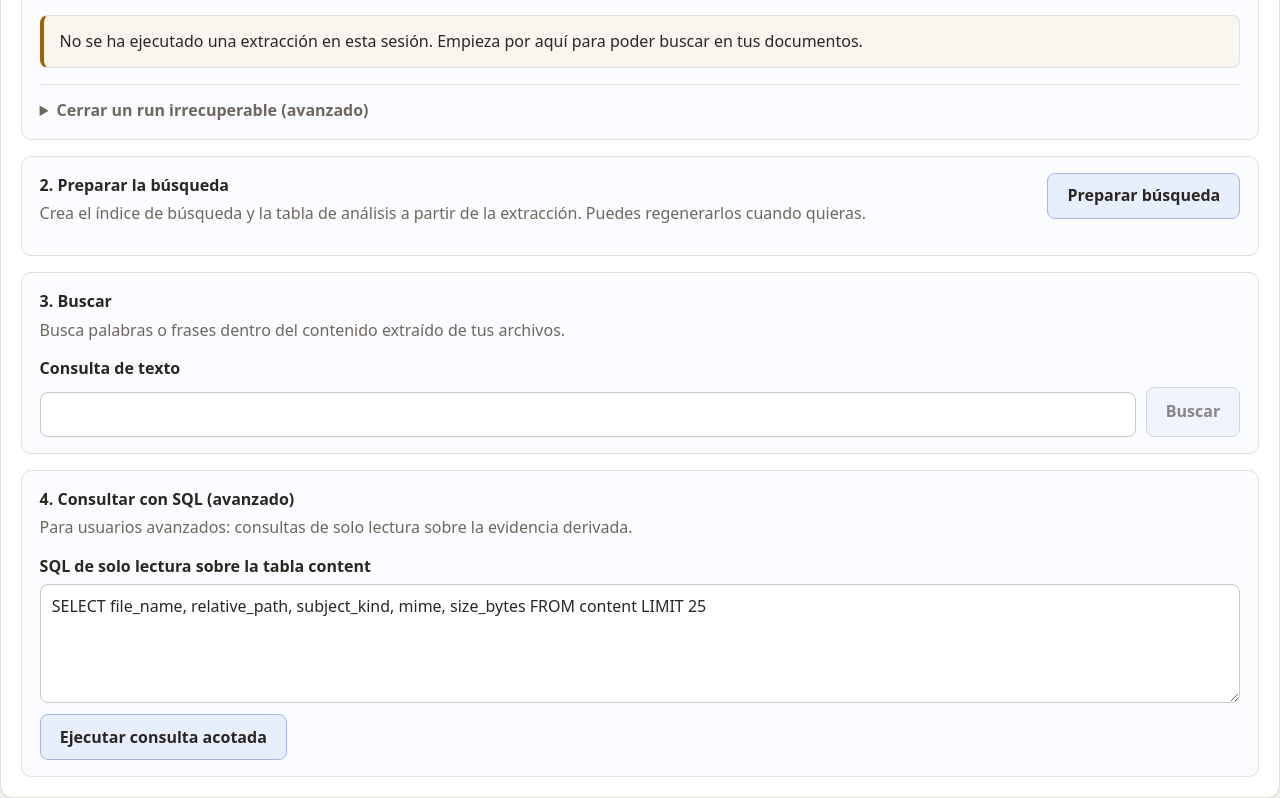
Test case: ContentIntelligenceView › renders the bounded SQL result as a semantic table
(page scrolled)
Click the button "Ejecutar consulta acotada": (163, 737) [40,714,287,760]
(page scrolled)
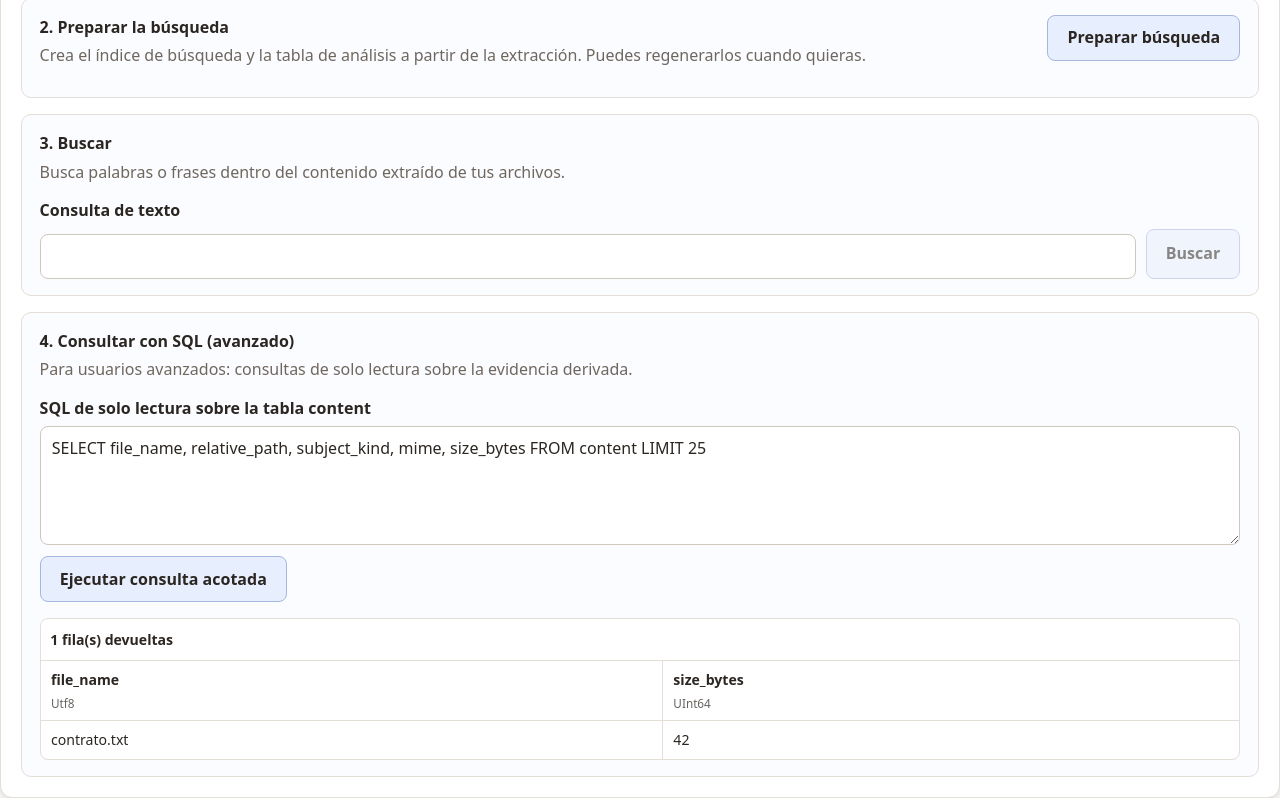
Expected: the column heading "file_name Utf8" is shown, [41,660,662,721]
Expected: the cell "contrato.txt" is shown, [41,721,662,759]
Expected: the cell "42" is shown, [662,721,1239,759]
